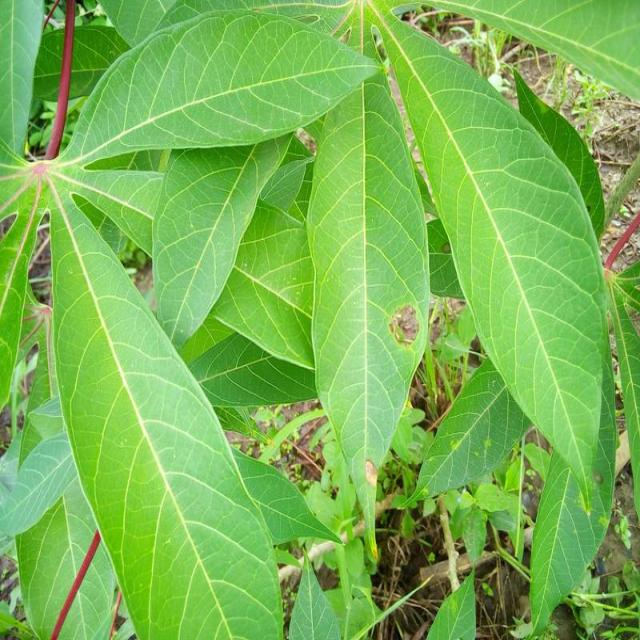cassava leaf: (1, 1, 626, 638), (46, 171, 286, 638), (304, 64, 430, 561)
